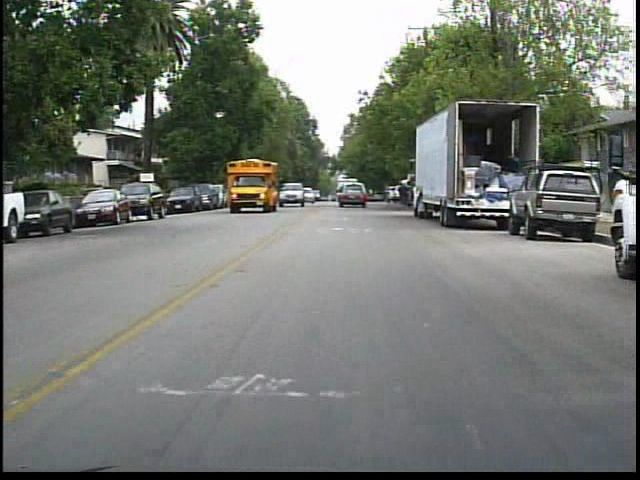person: (395, 176, 415, 217)
